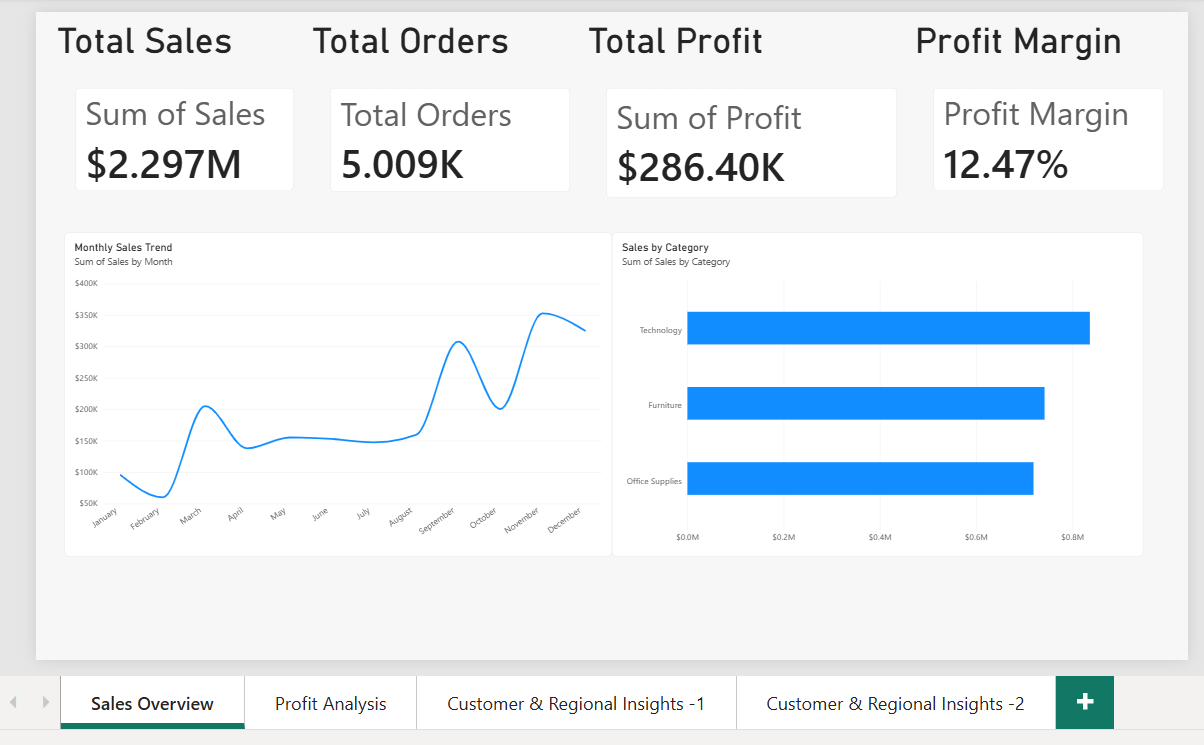

The page's visual inventory and layout, read from the dashboard file:
{"tool":"powerbi","page":{"name":"Sales Overview","canvas":[1920,1080],"ordinal":0},"visuals":[{"type":"cardVisual","title":"Total Sales","fields":{"Data":["Sum(Sample - Superstore.Sales)","Sum(Sample - Superstore.Sales)"]},"box":[35,12.5,425,315],"z":0},{"type":"cardVisual","title":"Total Profit","fields":{"Data":["Sum(Sample - Superstore.Profit)"]},"box":[920,12.5,545,327.5],"z":1000},{"type":"cardVisual","title":"Total Orders","fields":{"Data":["Sample - Superstore.Total Orders","Sample - Superstore.Total Orders"]},"box":[460,12.5,460,317.5],"z":2000},{"type":"cardVisual","title":"Profit Margin","fields":{"Data":["Sample - Superstore.Profit Margin"]},"box":[1465,12.5,445,315],"z":3000},{"type":"lineChart","title":"Monthly Sales Trend","fields":{"Category":["Sample - Superstore.Order Date.Variation.Date Hierarchy.Month","Sample - Superstore.Order Date.Variation.Date Hierarchy.Day"],"Y":["Sum(Sample - Superstore.Sales)"]},"box":[47.5,367.5,912.5,540],"z":4000},{"type":"clusteredBarChart","title":"Sales by Category","fields":{"Category":["Sample - Superstore.Category"],"Y":["Sum(Sample - Superstore.Sales)"]},"box":[960,367.5,885,540],"z":5000}]}

Visuals, with their boxes on the page's 1920x1080 design canvas (x1, y1, x2, y2). These are canvas units, not pixel positions in the 1204x745 screenshot, which may show the page scaled, cropped or inside an application window:
"Total Sales" cardVisual: 35:12:460:328
"Total Profit" cardVisual: 920:12:1465:340
"Total Orders" cardVisual: 460:12:920:330
"Profit Margin" cardVisual: 1465:12:1910:328
"Monthly Sales Trend" lineChart: 48:368:960:908
"Sales by Category" clusteredBarChart: 960:368:1845:908
